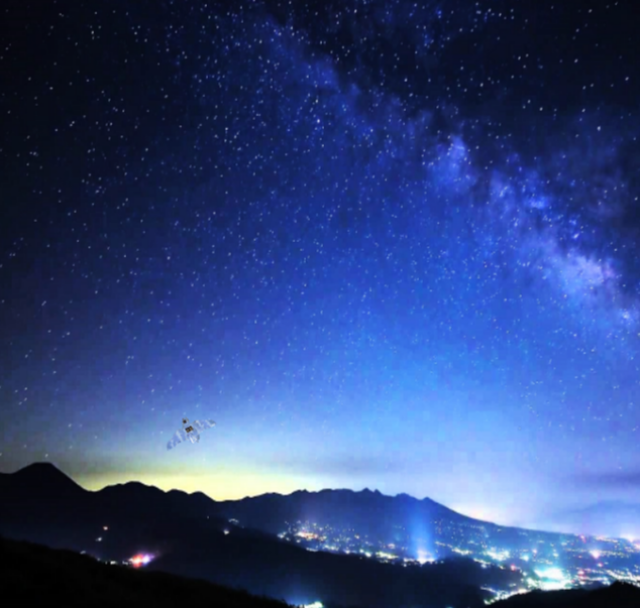military drone: (166, 416, 217, 449)
